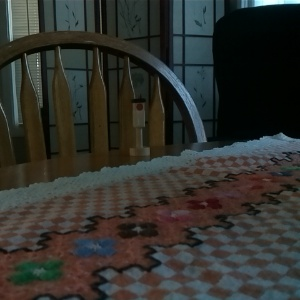traffic light red: (127, 97, 151, 157)
